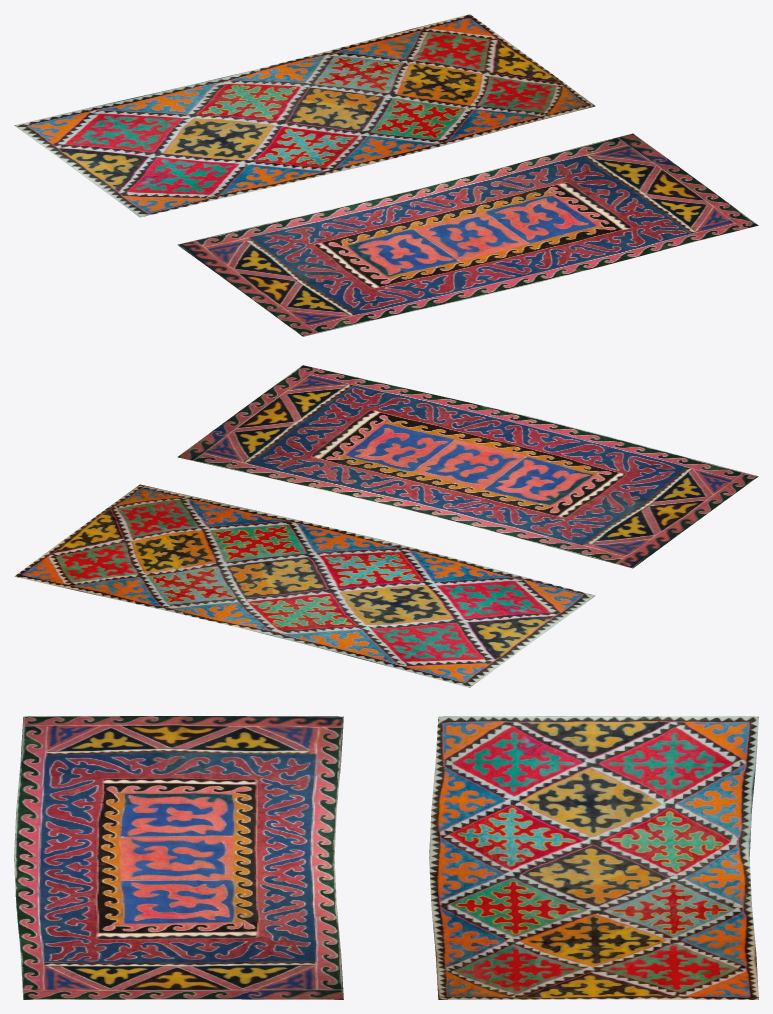
Rendered from Kovri45.fbx.
3 views of the same model, one above another, from view 1: azimuth 30°, elevation 25°; view 2: azimuth 150°, elevation 25°; view 3: azimuth 270°, elevation 25° (orthographic). The views are drawn at different scales.
Visible parts, largest first — view 1: Kover1.002, Kover1.001; view 2: Kover1.001, Kover1.002; view 3: Kover1.001, Kover1.002.
Boxes of the visible parts, left/top/right/bottom form: Kover1.002: left=14, top=14, right=595, bottom=217; Kover1.001: left=177, top=133, right=758, bottom=336; Kover1.001: left=177, top=365, right=758, bottom=568; Kover1.002: left=14, top=484, right=595, bottom=687; Kover1.001: left=14, top=716, right=343, bottom=999; Kover1.002: left=429, top=716, right=758, bottom=999.
Bounding box in the file's own units: 230 × 0.1456 × 256.
2 materials, 2 textured.
